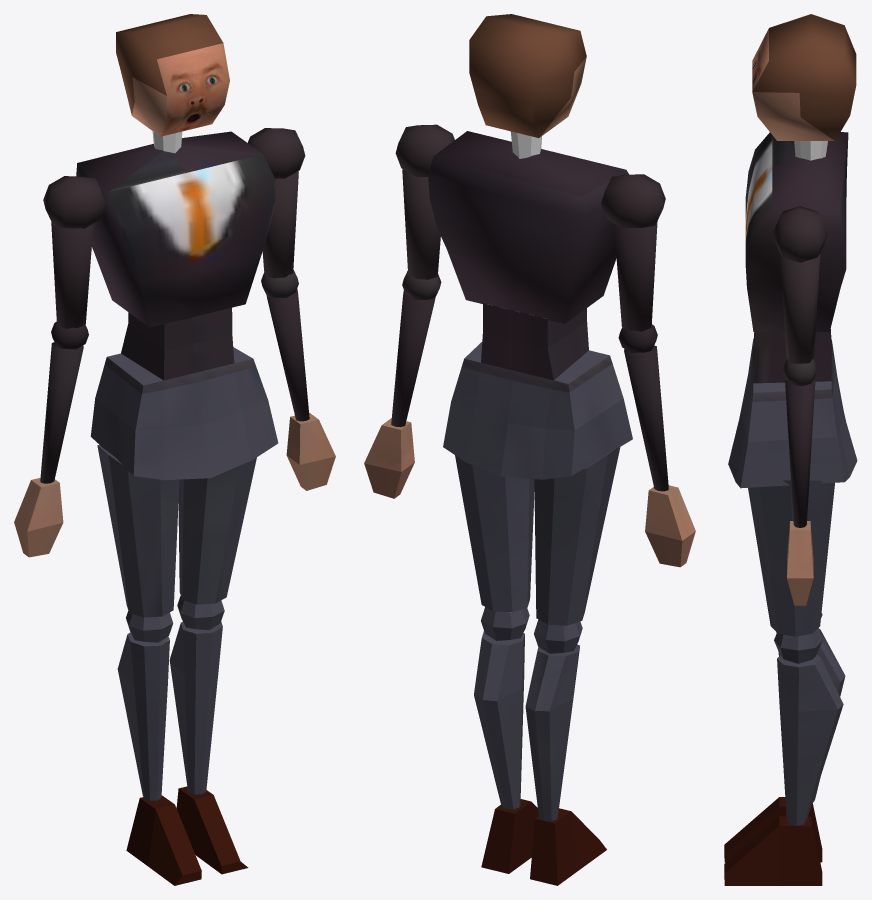
Rendered from prota.fbx.
The picture shows the model from 3 angles, left to right: view 1: azimuth 30°, elevation 25°; view 2: azimuth 150°, elevation 25°; view 3: azimuth 270°, elevation 25°; orthographic projection. The views are drawn at different scales.
Visible parts, largest first — view 1: torso.002, torso.025, cabeza sorpresa, torso.009, torso.007, torso.006, torso.008, torso.016, torso.013, torso.023, torso.012, torso.010 (+9 smaller); view 2: torso.002, torso.025, cabeza sorpresa, torso.009, torso.007, torso.006, torso.008, torso.016, torso.013, torso.012, torso.011, torso.010 (+10 smaller); view 3: torso.002, torso.025, cabeza sorpresa, torso.007, torso.006, torso.023, torso.011, torso.010, torso.019, torso.022, torso.016, torso.020 (+3 smaller).
Boxes of the visible parts, left/top/right/bottom form: torso.002: left=76, top=131, right=275, bottom=327; torso.025: left=90, top=307, right=278, bottom=480; cabeza sorpresa: left=116, top=14, right=229, bottom=136; torso.009: left=97, top=445, right=179, bottom=617; torso.007: left=178, top=457, right=256, bottom=604; torso.006: left=169, top=621, right=222, bottom=794; torso.008: left=117, top=632, right=169, bottom=800; torso.016: left=126, top=795, right=201, bottom=885; torso.013: left=51, top=222, right=93, bottom=328; torso.023: left=176, top=786, right=248, bottom=874; torso.012: left=40, top=342, right=83, bottom=483; torso.010: left=266, top=289, right=309, bottom=421; torso.002: left=428, top=131, right=628, bottom=323; torso.025: left=443, top=303, right=632, bottom=479; cabeza sorpresa: left=469, top=14, right=586, bottom=137; torso.009: left=534, top=447, right=620, bottom=625; torso.007: left=455, top=455, right=534, bottom=612; torso.006: left=474, top=631, right=524, bottom=809; torso.008: left=525, top=644, right=579, bottom=821; torso.016: left=530, top=808, right=606, bottom=885; torso.013: left=614, top=221, right=657, bottom=331; torso.012: left=624, top=345, right=668, bottom=491; torso.011: left=402, top=169, right=440, bottom=279; torso.010: left=391, top=290, right=435, bottom=427; torso.002: left=745, top=132, right=848, bottom=331; torso.025: left=728, top=329, right=857, bottom=488; cabeza sorpresa: left=752, top=14, right=856, bottom=140; torso.007: left=748, top=480, right=834, bottom=636; torso.006: left=777, top=654, right=843, bottom=825; torso.023: left=724, top=816, right=822, bottom=885; torso.011: left=780, top=254, right=820, bottom=363; torso.010: left=785, top=380, right=815, bottom=527; torso.019: left=772, top=206, right=827, bottom=262; torso.022: left=787, top=521, right=813, bottom=605; torso.016: left=724, top=797, right=822, bottom=862; torso.020: left=774, top=629, right=822, bottom=663.
Size of the model in its own units: 184 by 467 by 67.33.
